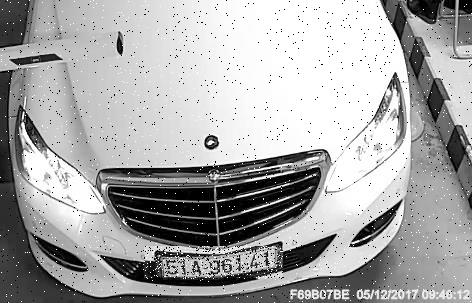License-plate: (145, 248, 284, 281)
